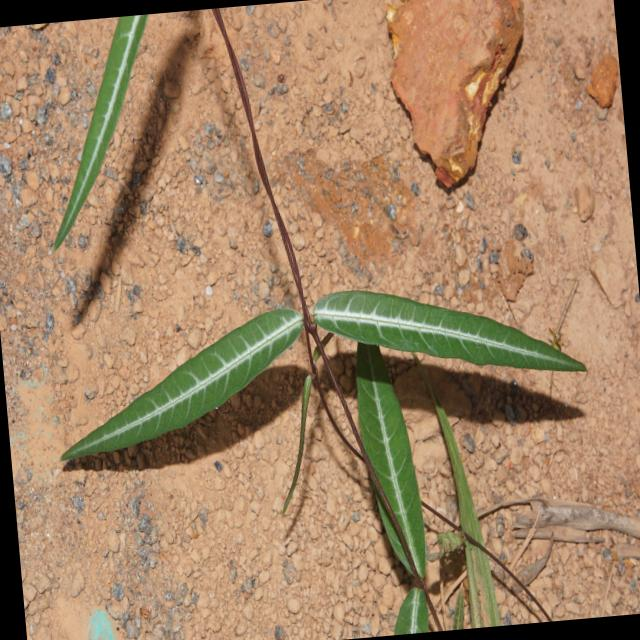Anantamul: (58, 193, 564, 640)
